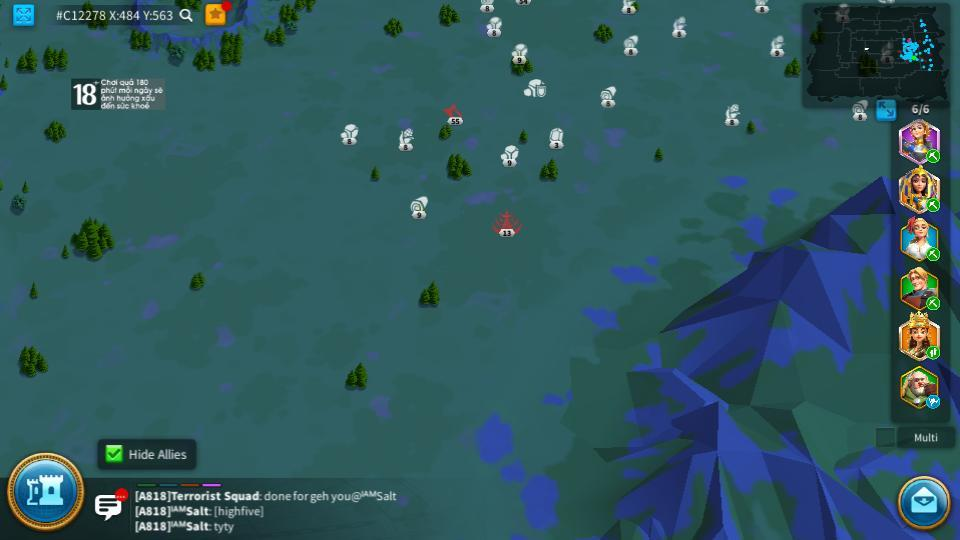gem-z-out: (547, 127, 566, 147)
march_idle: (925, 396, 942, 408)
march_marching: (925, 197, 941, 212), (925, 150, 942, 162), (925, 248, 942, 260), (925, 297, 943, 308), (925, 347, 941, 359)
